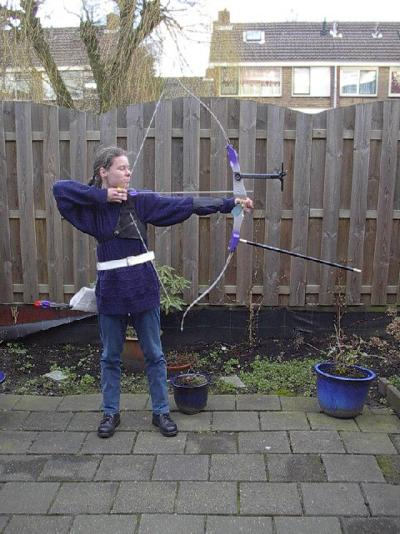person: (53, 142, 254, 439)
